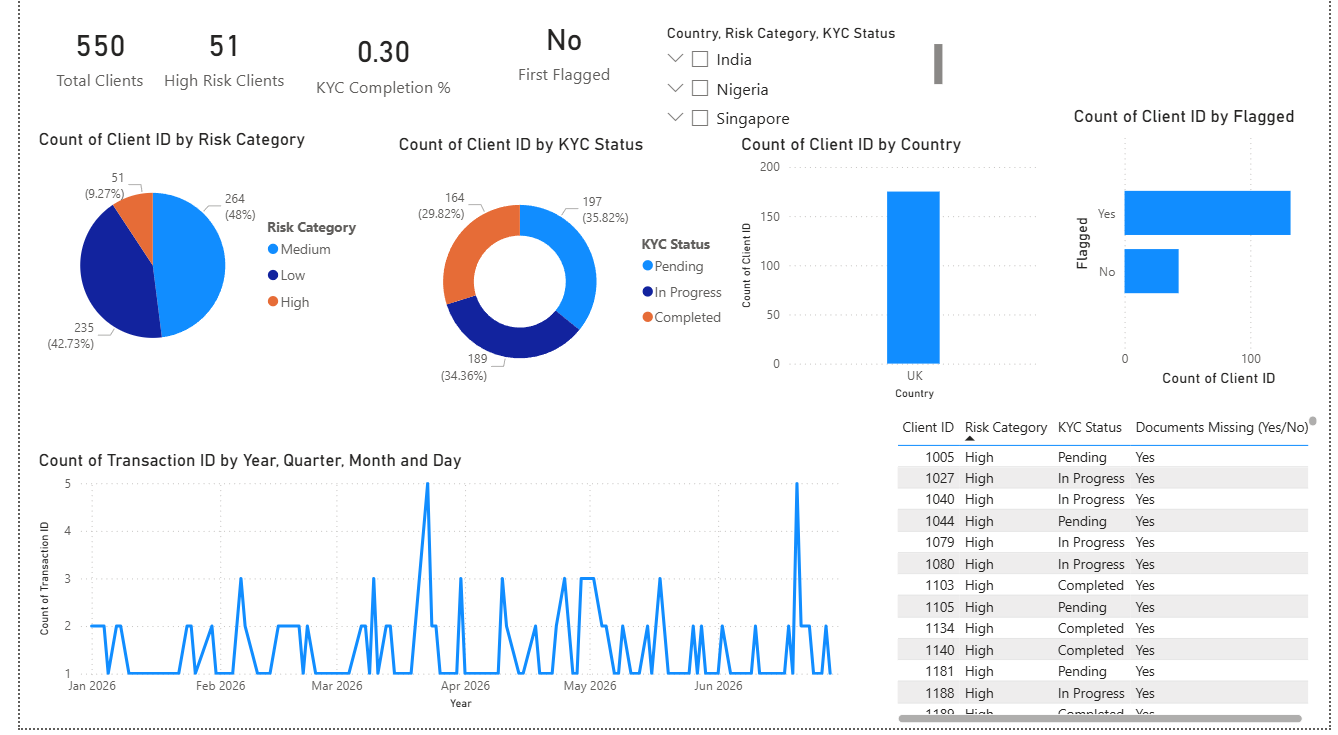

Layout of this report page (visuals, bound fields, positions):
{"tool":"powerbi","page":{"name":"Page 1","canvas":[1280,720],"ordinal":0},"visuals":[{"type":"card","fields":{"Values":["Client Master Data.Total Clients"]},"box":[13.5,0,129.6,122.3],"z":0},{"type":"card","fields":{"Values":["Client Master Data.KYC Completion %"]},"box":[269,13.5,173.6,108.8],"z":1},{"type":"card","fields":{"Values":["KYC Tracker.High Risk Clients"]},"box":[130.8,0,138.2,122.3],"z":5},{"type":"card","fields":{"Values":["Min(Transaction Data.Flagged)"]},"box":[457.3,0,150.4,111.3],"z":6},{"type":"columnChart","fields":{"Category":["Transaction Data.Country"],"Y":["CountNonNull(Transaction Data.Client ID)"]},"box":[700.7,138.2,302,265.4],"z":7},{"type":"pieChart","fields":{"Category":["KYC Tracker.Risk Category"],"Y":["CountNonNull(KYC Tracker.Client ID)"]},"box":[13.5,133.3,336.3,249.5],"z":8},{"type":"donutChart","fields":{"Category":["KYC Tracker.KYC Status"],"Y":["CountNonNull(KYC Tracker.Client ID)"]},"box":[365.6,138.2,335.1,271.5],"z":9},{"type":"tableEx","fields":{"Values":["KYC Tracker.Client ID","KYC Tracker.Risk Category","KYC Tracker.KYC Status","KYC Tracker.Documents Missing (Yes/No)"]},"box":[852.3,409.6,421.9,310.6],"z":10},{"type":"lineChart","fields":{"Y":["CountNonNull(Transaction Data.Transaction ID)"],"Category":["Transaction Data.Date.Variation.Date Hierarchy.Year","Transaction Data.Date.Variation.Date Hierarchy.Quarter","Transaction Data.Date.Variation.Date Hierarchy.Month","Transaction Data.Date.Variation.Date Hierarchy.Day"]},"box":[13.5,447.6,808.3,259.2],"z":11},{"type":"clusteredBarChart","fields":{"Category":["Transaction Data.Flagged"],"Y":["CountNonNull(Transaction Data.Client ID)"]},"box":[1026,111.3,254.3,280],"z":12},{"type":"slicer","fields":{"Values":["Transaction Data.Country","KYC Tracker.Risk Category","KYC Tracker.KYC Status"]},"box":[617.5,0,287.4,111.3],"z":13}]}

Visuals, with their boxes in screenshot pixels (x1, y1, x2, y2), scaled from the page's 1280x720 canvas onto the 1338x735 screenshot:
card - Client Master Data.Total Clients: {"x1": 14, "y1": 0, "x2": 150, "y2": 125}
card - Client Master Data.KYC Completion %: {"x1": 281, "y1": 14, "x2": 463, "y2": 125}
card - KYC Tracker.High Risk Clients: {"x1": 137, "y1": 0, "x2": 281, "y2": 125}
card - Min(Transaction Data.Flagged): {"x1": 478, "y1": 0, "x2": 635, "y2": 114}
columnChart - Transaction Data.Country x CountNonNull(Transaction Data.Client ID): {"x1": 732, "y1": 141, "x2": 1048, "y2": 412}
pieChart - KYC Tracker.Risk Category x CountNonNull(KYC Tracker.Client ID): {"x1": 14, "y1": 136, "x2": 366, "y2": 391}
donutChart - KYC Tracker.KYC Status x CountNonNull(KYC Tracker.Client ID): {"x1": 382, "y1": 141, "x2": 732, "y2": 418}
tableEx - KYC Tracker.Client ID x KYC Tracker.Risk Category: {"x1": 891, "y1": 418, "x2": 1332, "y2": 734}
lineChart - CountNonNull(Transaction Data.Transaction ID) x Transaction Data.Date.Variation.Date Hierarchy.Year: {"x1": 14, "y1": 457, "x2": 859, "y2": 722}
clusteredBarChart - Transaction Data.Flagged x CountNonNull(Transaction Data.Client ID): {"x1": 1072, "y1": 114, "x2": 1337, "y2": 399}
slicer - Transaction Data.Country x KYC Tracker.Risk Category: {"x1": 645, "y1": 0, "x2": 946, "y2": 114}
